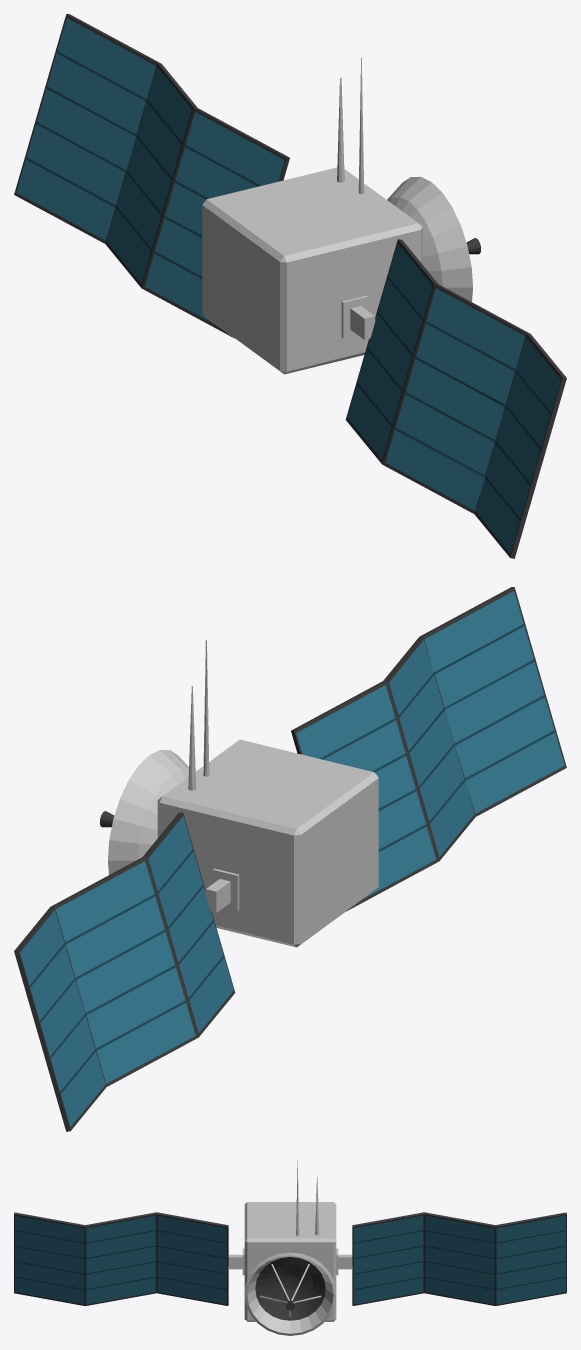
The model's file is satellite-2.glb.
3 views of the same model, one above another, from view 1: azimuth 30°, elevation 25°; view 2: azimuth 150°, elevation 25°; view 3: azimuth 270°, elevation 25° (orthographic). The views are drawn at different scales.
Size of the model in its own units: 44.33 by 53.66 by 162.
Materials: 1 (1 with a texture image).
